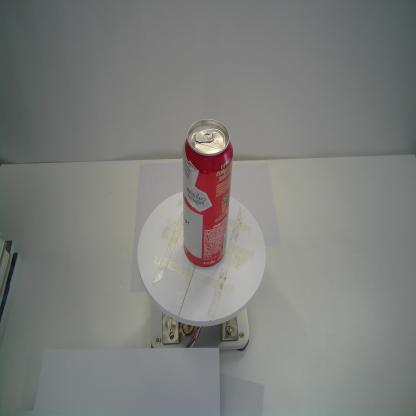Alcohol: (181, 116, 233, 270)
